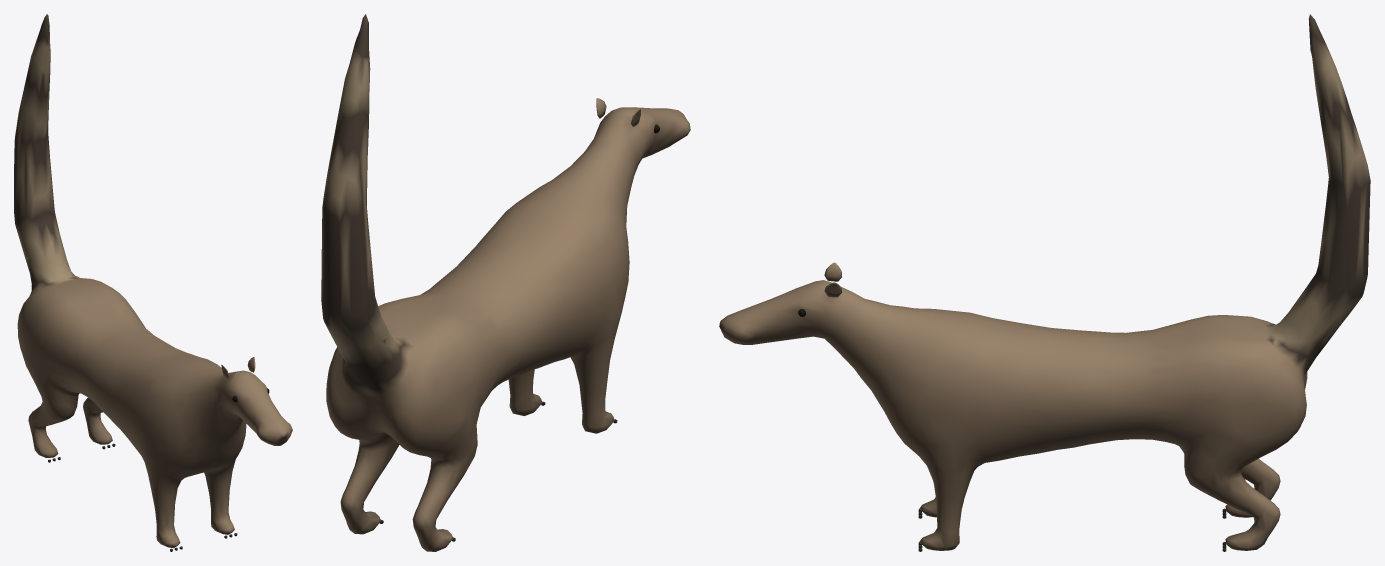
The model's file is nasenbaer.glb.
3 views of the same model, side by side, from view 1: azimuth 30°, elevation 25°; view 2: azimuth 150°, elevation 25°; view 3: azimuth 270°, elevation 25° (orthographic). The views are drawn at different scales.
Parts seen in each view (by area): view 1: lack; view 2: lack; view 3: lack.
Boxes of the visible parts, left/top/right/bottom form: lack: left=14, top=14, right=292, bottom=551; lack: left=321, top=14, right=690, bottom=551; lack: left=719, top=14, right=1370, bottom=551.
Bounding box in the file's own units: 0.1654 × 0.6994 × 0.7964.
